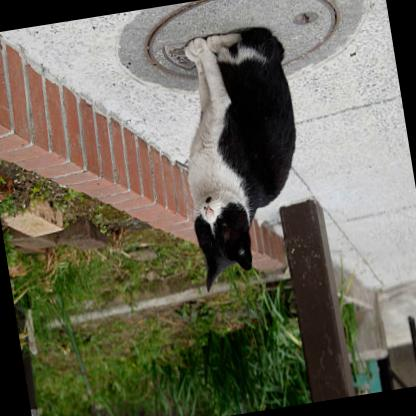manholes: (88, 0, 394, 154)
